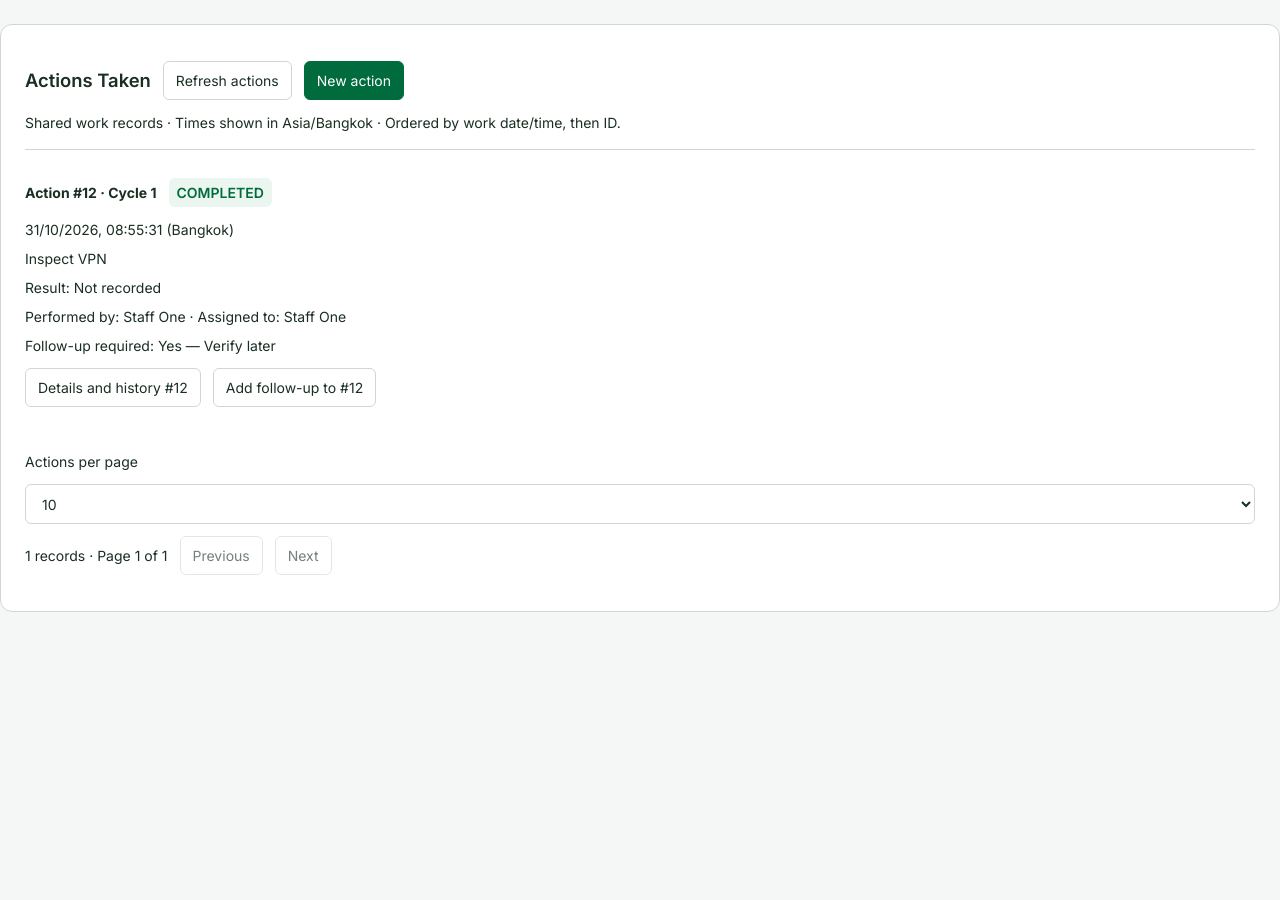
it: Actions Taken interface › opens a linked follow-up for completed work but no edit/delete controls
Step 1. Click the button "Add follow-up to #12" → (294, 388), box [213,368,376,407]
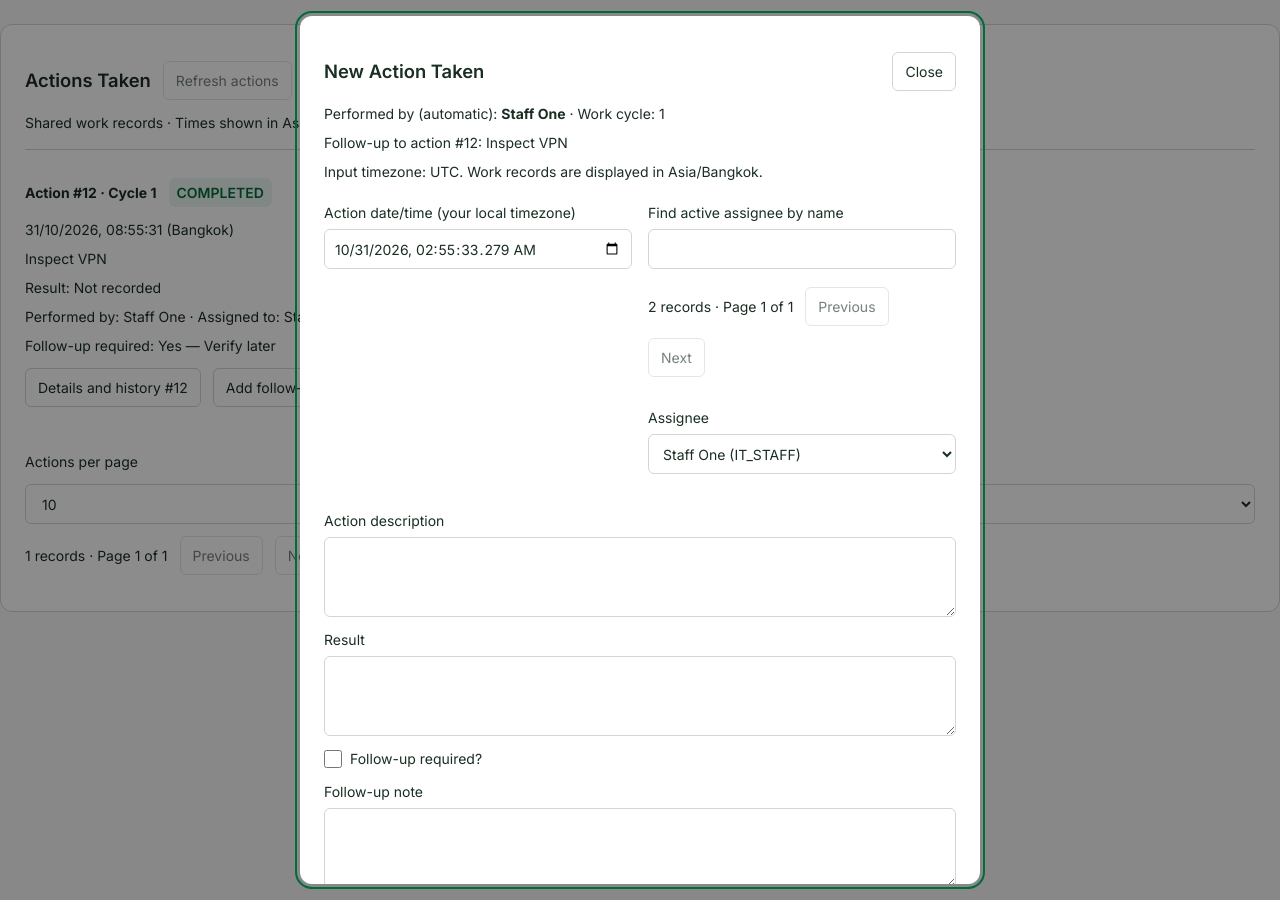
Expected: the text "Follow-up to action #12: Inspect VPN" is shown, [324,134,568,151]
